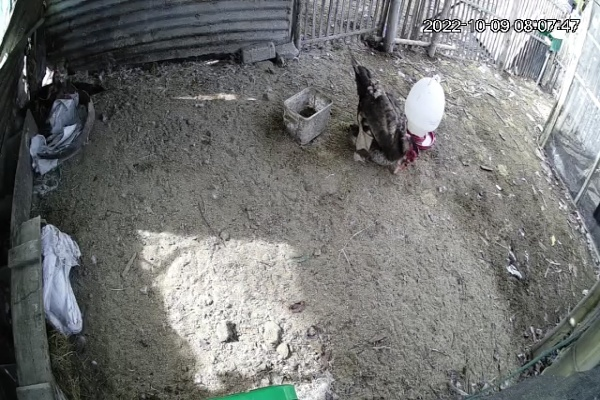Kawin: (336, 46, 423, 181)
